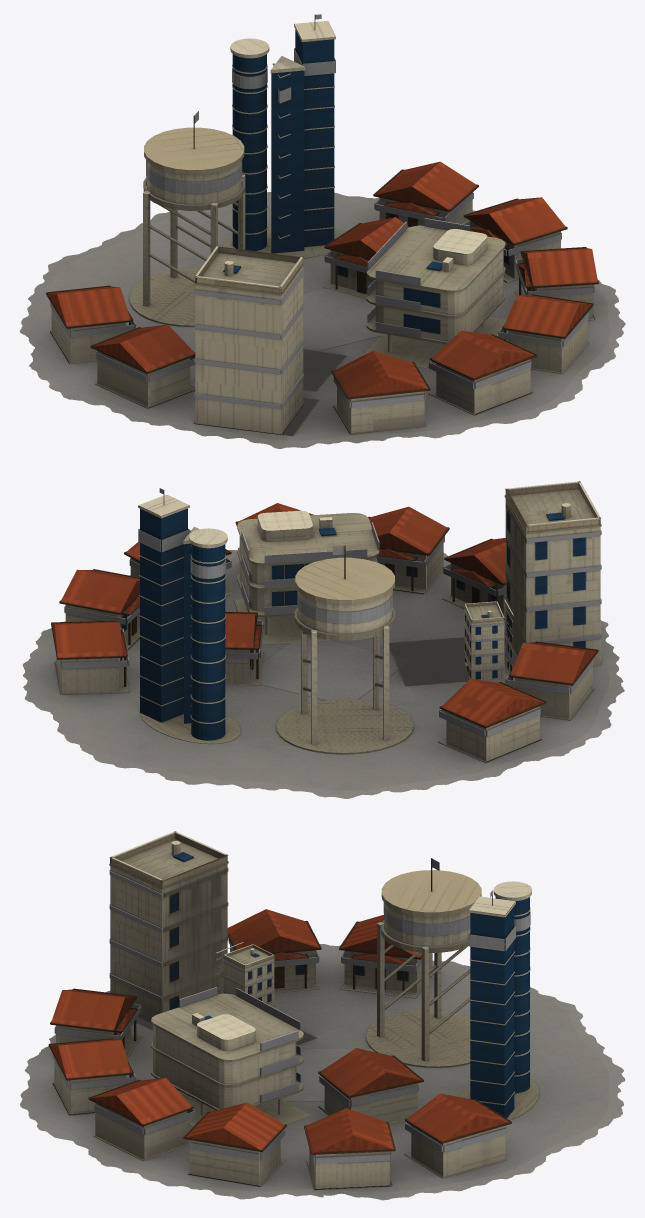
The model's file is modern-town-medium-b-israelite.glb.
3 views of the same model, one above another, from view 1: azimuth 30°, elevation 25°; view 2: azimuth 150°, elevation 25°; view 3: azimuth 270°, elevation 25° (orthographic).
Visible parts, largest first — view 1: LOD0; view 2: LOD0; view 3: LOD0.
Part boxes in pixels (x1,y1,x2,y2): LOD0: (19, 14, 625, 448); LOD0: (23, 481, 624, 798); LOD0: (20, 831, 625, 1200).
Size of what is drawn, in the model's own units: 5.98 by 2.4 by 5.95.
Materials: 3 (3 with a texture image).
